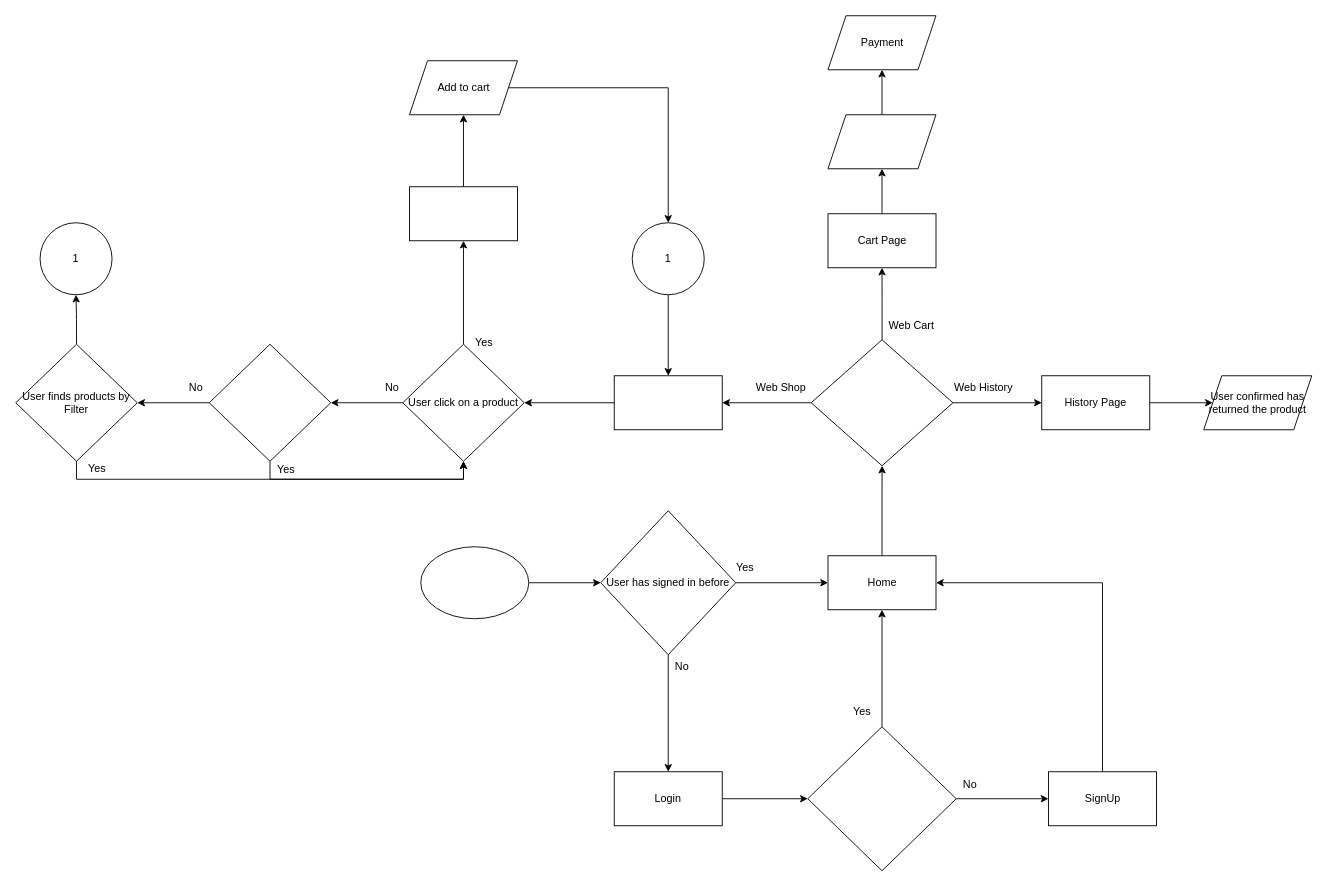
Image size: 1328x887. Some labels were removed from this diagram. The centre of each missing label's shape, as x and y in pixels:
"Checkout cart" belongs at [881,141].
"Opening website" belongs at [474,582].
"Product page" belongs at [463,213].
"Shop Page" belongs at [667,402].
"User finds products by keywords" belongs at [269,402].
"User has an account" belongs at [881,798].
"User navigasi" belongs at [881,402].
